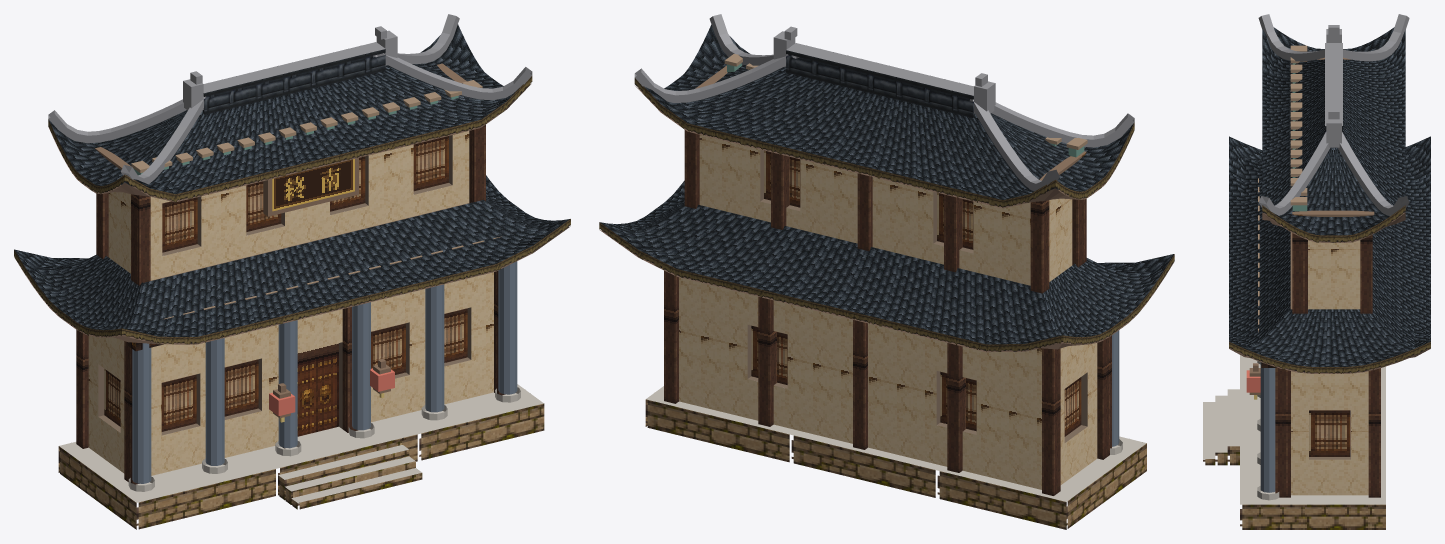
Rendered from g_jongnam_hut_o2.glb.
3 views of the same model, side by side, from view 1: azimuth 30°, elevation 25°; view 2: azimuth 150°, elevation 25°; view 3: azimuth 270°, elevation 25° (orthographic). The views are drawn at different scales.
Parts seen in each view (by area): view 1: roof, plaster, col, stone, stonetop, win, ridgeend, post, eave, ridge, door, reveal (+5 smaller); view 2: roof, plaster, post, stone, ridgeend, eave, win, ridge, stonetop, under, reveal, col; view 3: roof, plaster, stonetop, ridgeend, post, stone, eave, col, win, woodl, wood, under (+1 smaller).
Boxes of the visible parts, x1,y1,x2,y2 form: roof: (14, 24, 569, 336); plaster: (88, 131, 493, 475); col: (132, 261, 517, 483); stone: (58, 403, 544, 529); stonetop: (59, 384, 543, 502); win: (104, 136, 467, 431); ridgeend: (48, 14, 532, 184); post: (76, 124, 505, 484); eave: (14, 76, 570, 344); ridge: (202, 49, 385, 114); door: (297, 343, 338, 436); reveal: (98, 135, 471, 435); roof: (600, 24, 1173, 344); plaster: (679, 135, 1097, 489); post: (664, 130, 1111, 495); stone: (645, 399, 1146, 529); ridgeend: (634, 14, 1134, 191); eave: (599, 78, 1174, 351); win: (751, 150, 1081, 436); ridge: (786, 50, 974, 117); stonetop: (646, 386, 1146, 501); under: (600, 86, 1173, 352); reveal: (747, 149, 1087, 442); col: (1112, 330, 1119, 446); roof: (1229, 27, 1430, 366); plaster: (1291, 240, 1368, 495); stonetop: (1203, 355, 1385, 504); ridgeend: (1258, 14, 1409, 215); post: (1275, 214, 1380, 497); stone: (1203, 446, 1385, 529); eave: (1229, 205, 1430, 373); col: (1260, 362, 1275, 492); win: (1309, 410, 1350, 456); woodl: (1258, 45, 1307, 332); wood: (1249, 57, 1374, 394); under: (1229, 212, 1430, 373).
Size of the model in its own units: 86.83 by 72.49 by 40.69.
20 materials, 10 textured.
